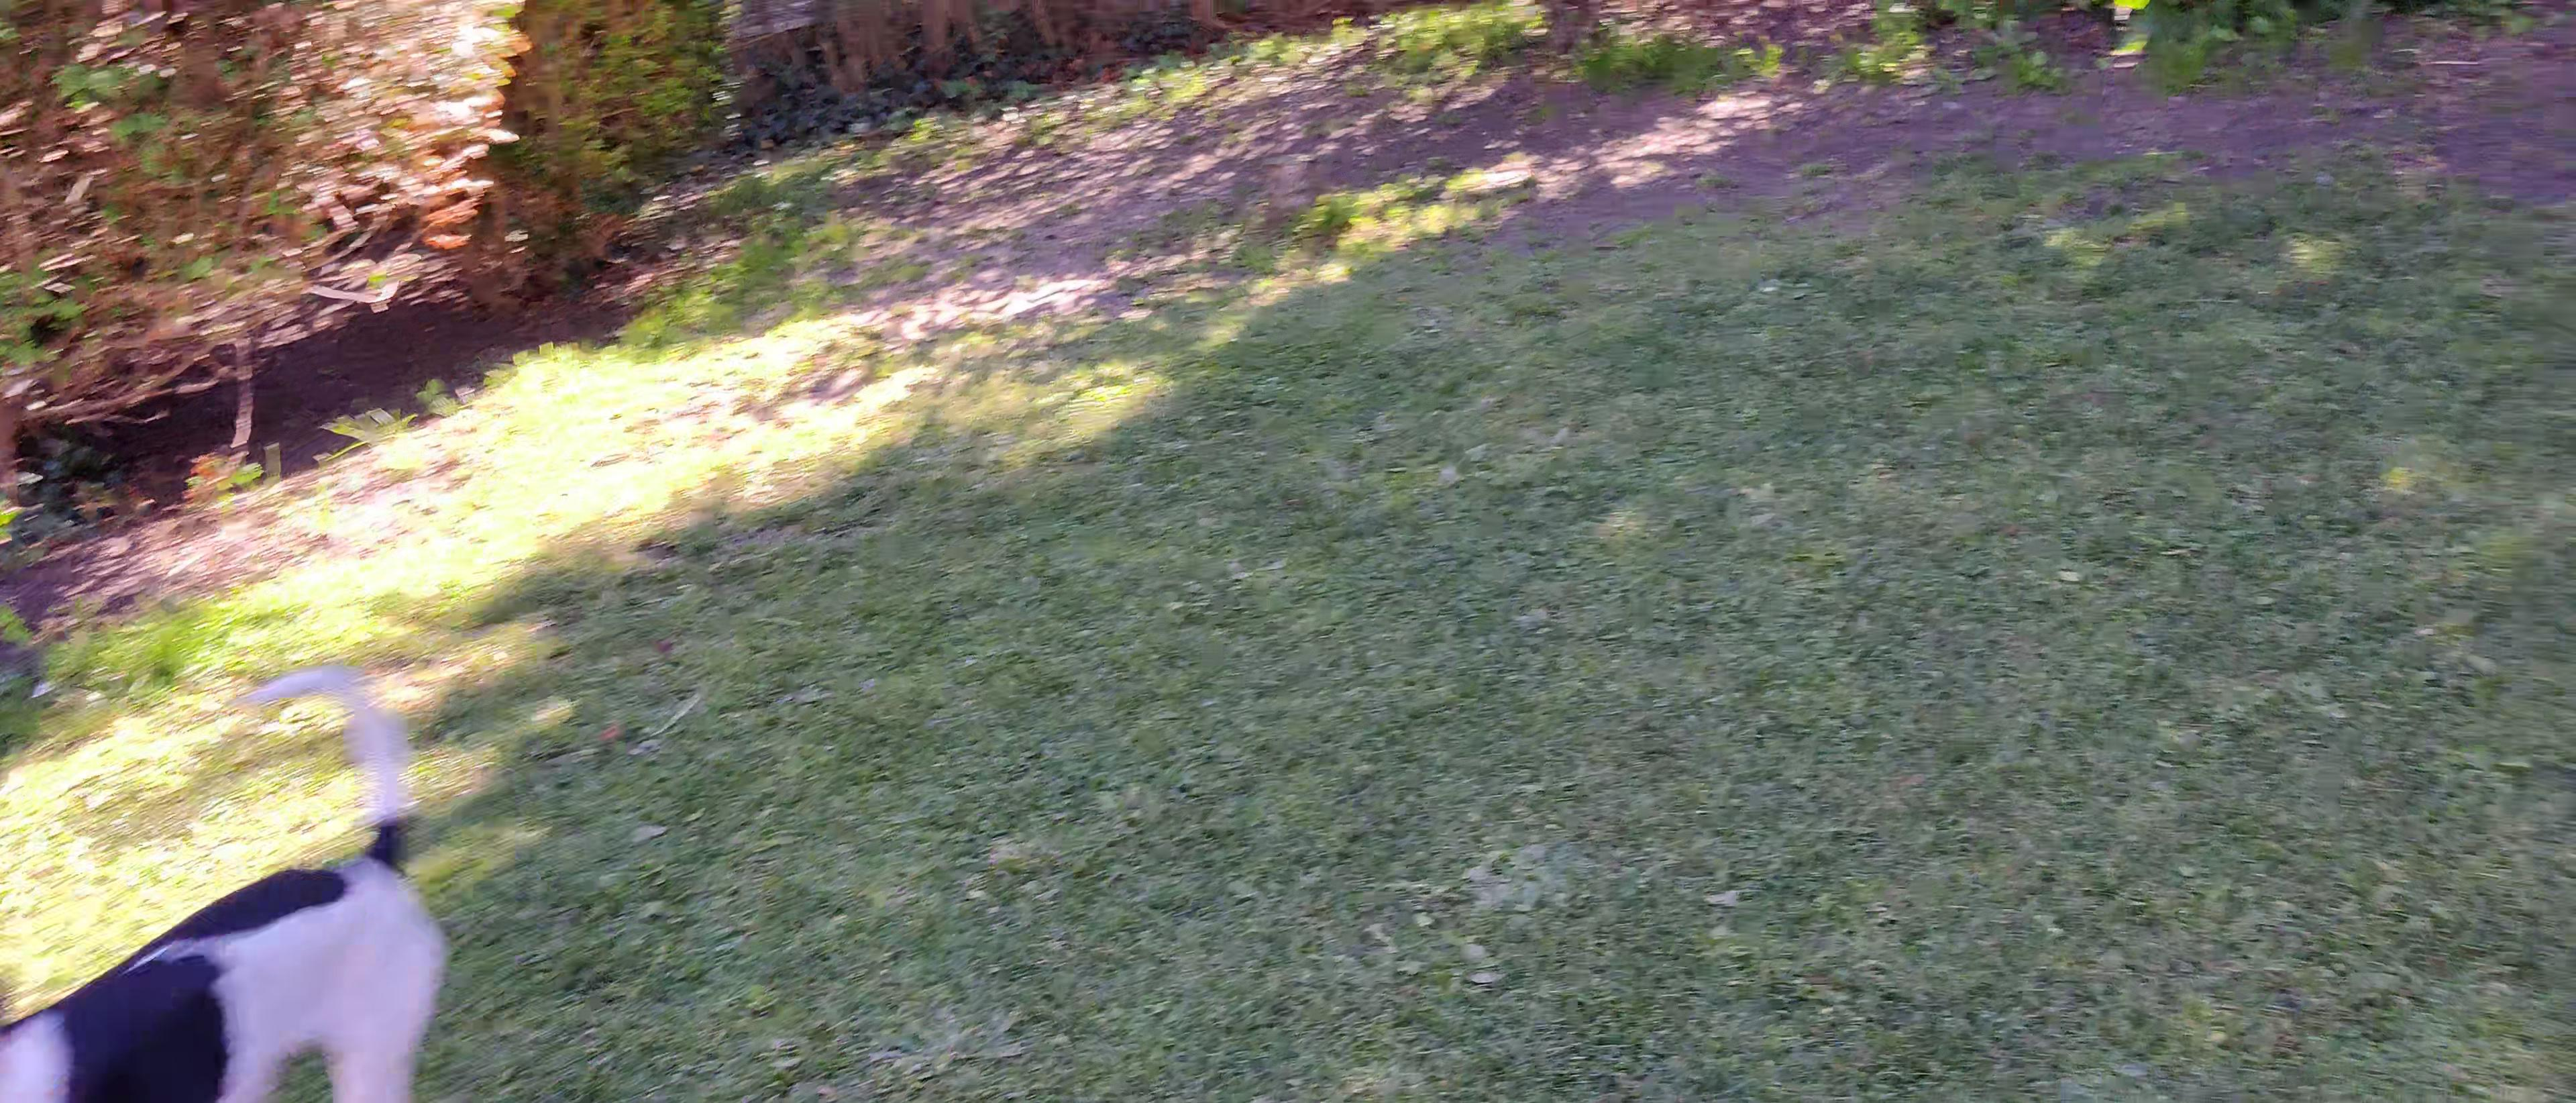Dog: (0, 654, 457, 1103)
